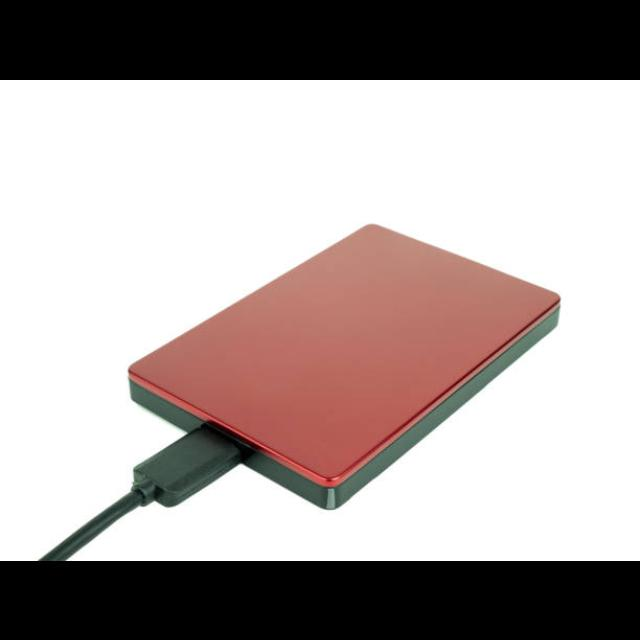HDD: (119, 223, 564, 511)
